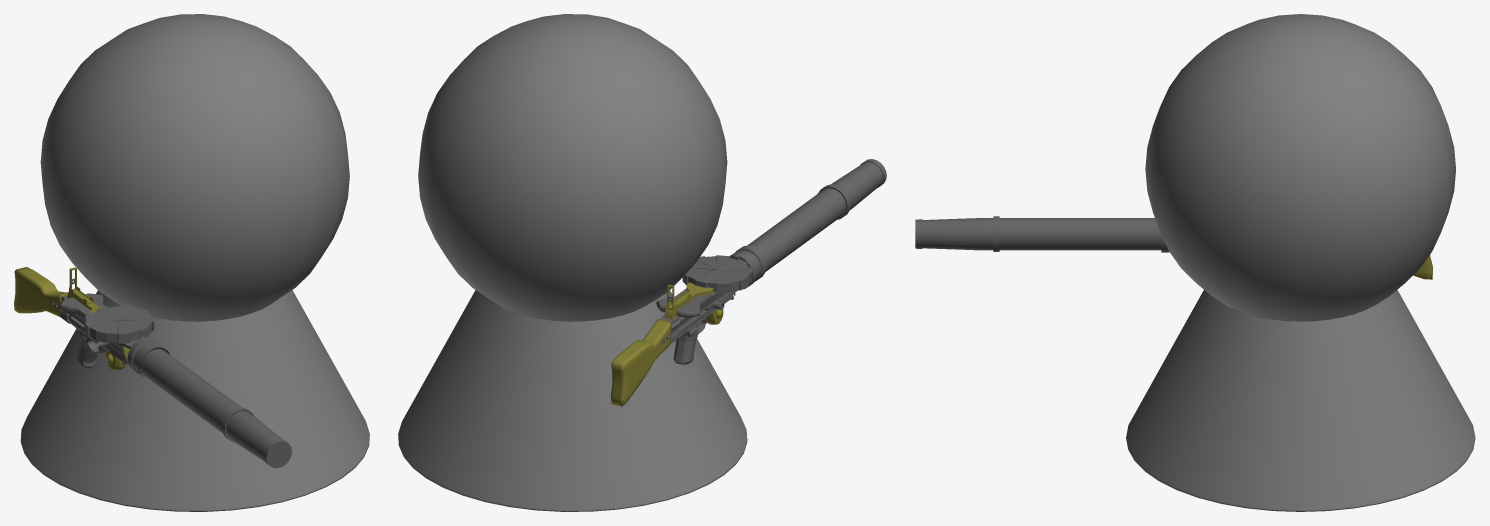
Rendered from LMG.fbx.
3 views of the same model, side by side, from view 1: azimuth 30°, elevation 25°; view 2: azimuth 150°, elevation 25°; view 3: azimuth 270°, elevation 25° (orthographic).
Visible parts, largest first — view 1: polySurface29, polySurface30, polySurface43, polySurface38, polySurface42, polySurface31, polySurface39; view 2: polySurface29, polySurface30, polySurface43, polySurface42, polySurface38, polySurface31, polySurface39; view 3: polySurface29, polySurface30, polySurface43.
Boxes of the visible parts, bbox=[...] form: polySurface29: bbox=[40, 14, 349, 321]; polySurface30: bbox=[20, 290, 369, 511]; polySurface43: bbox=[59, 293, 291, 468]; polySurface38: bbox=[84, 305, 153, 343]; polySurface42: bbox=[14, 267, 67, 316]; polySurface31: bbox=[75, 327, 105, 368]; polySurface39: bbox=[67, 267, 103, 313]; polySurface29: bbox=[418, 14, 727, 321]; polySurface30: bbox=[398, 290, 747, 511]; polySurface43: bbox=[656, 159, 886, 343]; polySurface42: bbox=[611, 319, 671, 406]; polySurface38: bbox=[682, 255, 751, 293]; polySurface31: bbox=[673, 316, 707, 364]; polySurface39: bbox=[664, 282, 713, 319]; polySurface29: bbox=[1145, 14, 1455, 321]; polySurface30: bbox=[1126, 290, 1475, 511]; polySurface43: bbox=[915, 216, 1169, 252].
Bounding box in the file's own units: 72.5 × 93.98 × 116.
